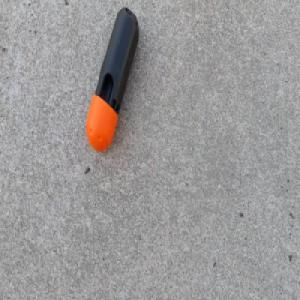PlasticPart: (84, 5, 140, 155)
